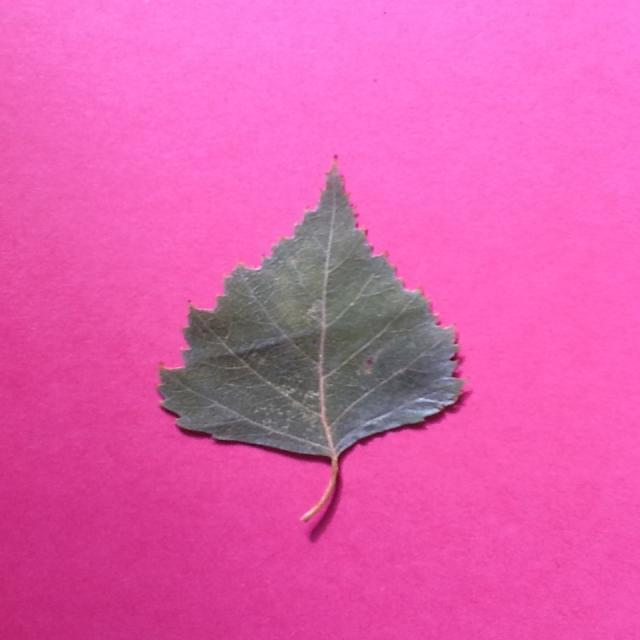foliage: (149, 152, 473, 527)
